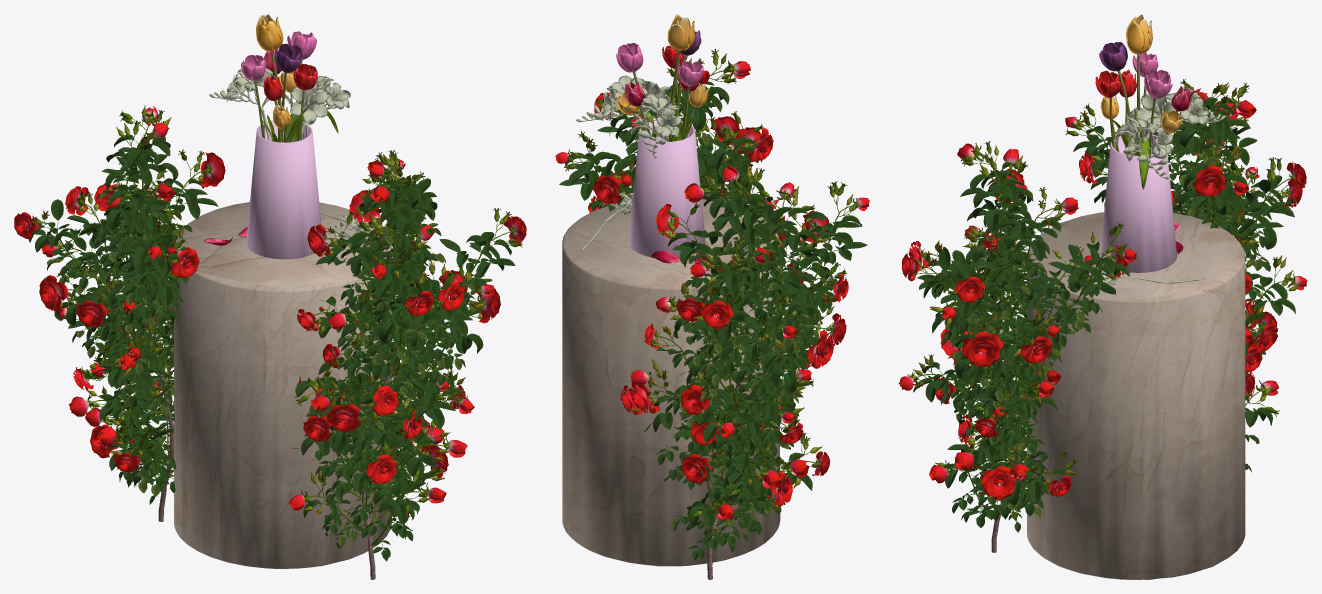
Rendered from rose.gltf.
3 renders of one model, left to right at view 1: azimuth 30°, elevation 25°; view 2: azimuth 150°, elevation 25°; view 3: azimuth 270°, elevation 25°, orthographic.
Parts seen in each view (by area): view 1: Tulip - 1, Scene-02_showmoss; view 2: Tulip - 1, Scene-02_showmoss; view 3: Tulip - 1, Scene-02_showmoss.
Boxes of the visible parts, x1,y1,x2,y2 form: Tulip - 1: (14,14,526,579); Scene-02_showmoss: (174,202,391,568); Tulip - 1: (555,14,869,579); Scene-02_showmoss: (562,199,780,566); Tulip - 1: (898,14,1307,552); Scene-02_showmoss: (1027,212,1245,579).
Bounding box in the file's own units: 0.9951 × 1.31 × 0.9287.
24 materials, 23 textured.
